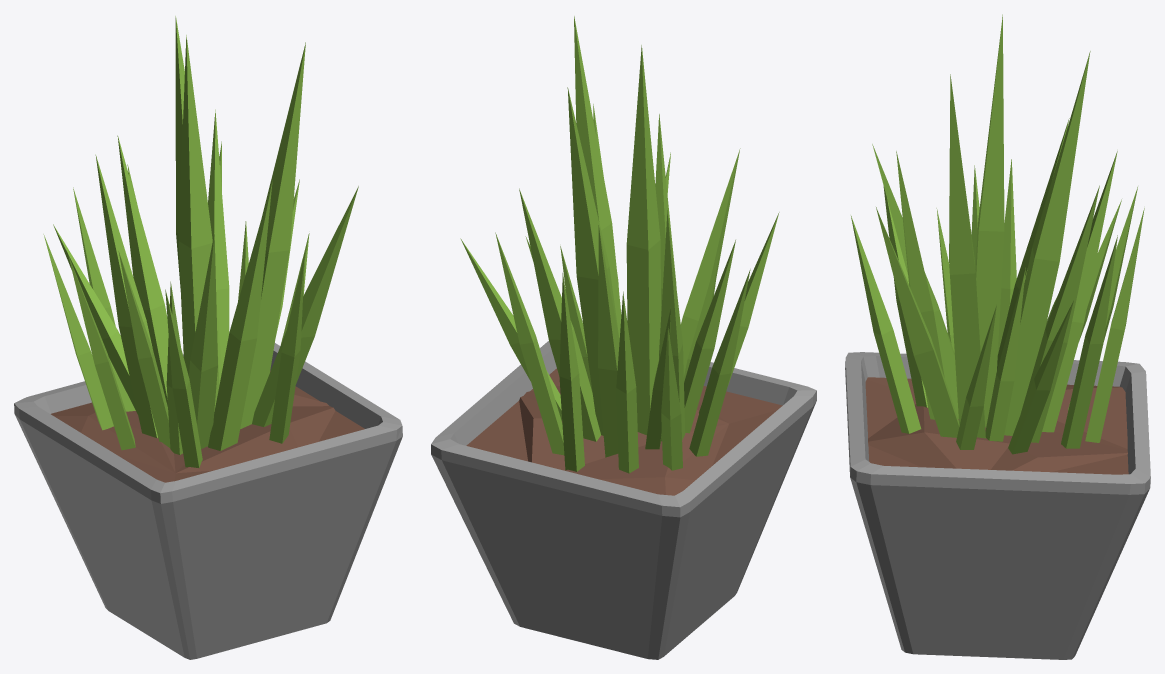
The model's file is small pot plant ORIGIN.fbx.
3 views of the same model, side by side, from view 1: azimuth 30°, elevation 25°; view 2: azimuth 150°, elevation 25°; view 3: azimuth 270°, elevation 25° (orthographic). The views are drawn at different scales.
Visible parts, largest first — view 1: group1712095507.001, group1712095507.005, group1712095507.004, group1712095507.003; view 2: group1712095507.001, group1712095507.005, group1712095507.004, group1712095507.003; view 3: group1712095507.001, group1712095507.003.
Part boxes in pixels (x1,y1,x2,y2): group1712095507.001: [14, 16, 402, 527]; group1712095507.005: [21, 428, 295, 629]; group1712095507.004: [85, 519, 321, 659]; group1712095507.003: [288, 514, 371, 633]; group1712095507.001: [431, 16, 816, 528]; group1712095507.005: [539, 430, 804, 628]; group1712095507.004: [513, 521, 752, 659]; group1712095507.003: [462, 517, 555, 635]; group1712095507.001: [845, 14, 1150, 556]; group1712095507.003: [871, 548, 1123, 659].
Bounding box in the file's own units: 2.5 × 5.3 × 2.45.
